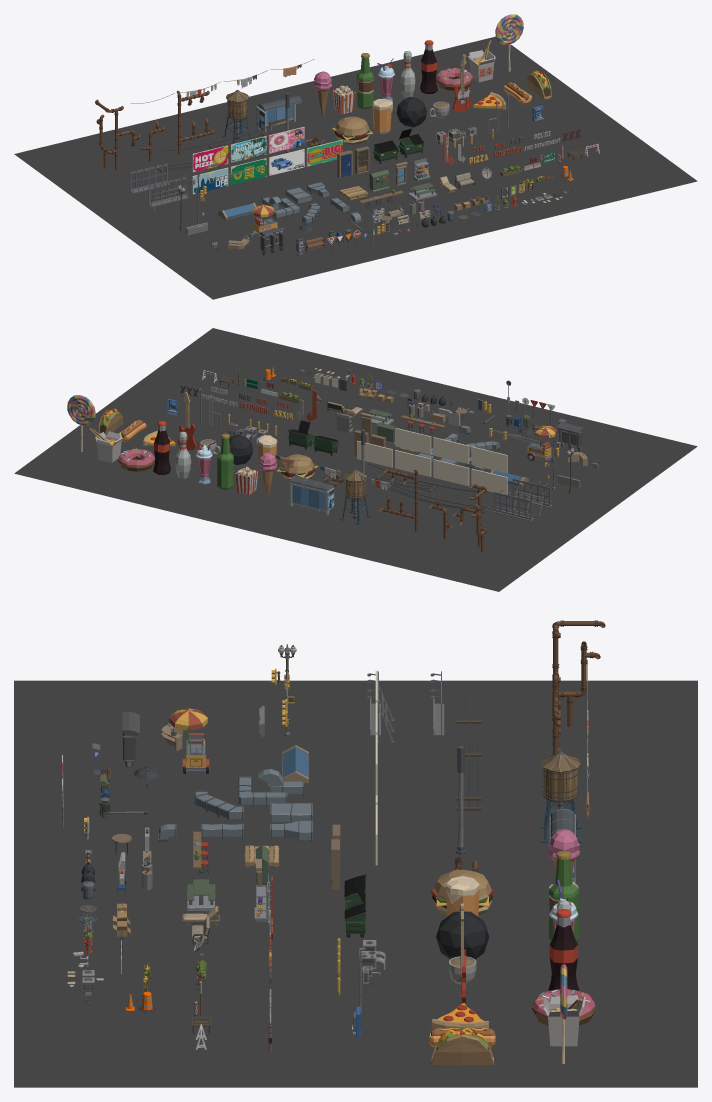
3 renders of one model, top to bottom at view 1: azimuth 30°, elevation 25°; view 2: azimuth 150°, elevation 25°; view 3: azimuth 270°, elevation 25°, orthographic. The views are drawn at different scales.
Visible parts, largest first — view 1: huitugou_2191_893, huitugou_2191_259, huitugou_2191_638, huitugou_2191_219, huitugou_2191_377, huitugou_2191_657, huitugou_2191_408, huitugou_2191_264, huitugou_2191_1061, huitugou_2191_433, huitugou_2191_24, huitugou_2191_286 (+7 smaller); view 2: huitugou_2191_893, huitugou_2191_638, huitugou_2191_464, huitugou_2191_657, huitugou_2191_1061, huitugou_2191_408, huitugou_2191_377, huitugou_2191_264, huitugou_2191_433, huitugou_2191_428, huitugou_2191_286, huitugou_2191_752 (+9 smaller); view 3: huitugou_2191_893, huitugou_2191_219, huitugou_2191_902, huitugou_2191_433, huitugou_2191_286, huitugou_2191_638, huitugou_2191_249, huitugou_2191_259, huitugou_2191_333, huitugou_2191_428, huitugou_2191_803, huitugou_2191_783 (+4 smaller).
Boxes of the visible parts, box(x1,y1,x2,y2) form: huitugou_2191_893: box(14, 36, 697, 299); huitugou_2191_259: box(334, 116, 369, 144); huitugou_2191_638: box(357, 57, 373, 108); huitugou_2191_219: box(396, 97, 426, 127); huitugou_2191_377: box(268, 149, 304, 175); huitugou_2191_657: box(268, 127, 304, 153); huitugou_2191_408: box(230, 136, 266, 162); huitugou_2191_264: box(495, 14, 523, 45); huitugou_2191_1061: box(192, 145, 228, 172); huitugou_2191_433: box(420, 45, 437, 93); huitugou_2191_24: box(306, 139, 342, 166); huitugou_2191_286: box(468, 50, 495, 82); huitugou_2191_893: box(14, 328, 697, 591); huitugou_2191_638: box(217, 438, 233, 489); huitugou_2191_464: box(433, 459, 469, 486); huitugou_2191_657: box(395, 428, 431, 454); huitugou_2191_1061: box(471, 446, 507, 473); huitugou_2191_408: box(433, 437, 469, 463); huitugou_2191_377: box(395, 450, 431, 476); huitugou_2191_264: box(67, 395, 95, 425); huitugou_2191_433: box(153, 425, 170, 474); huitugou_2191_428: box(118, 449, 154, 471); huitugou_2191_286: box(95, 431, 122, 462); huitugou_2191_752: box(471, 468, 507, 494); huitugou_2191_893: box(14, 680, 697, 1087); huitugou_2191_219: box(436, 911, 489, 959); huitugou_2191_902: box(431, 1028, 493, 1065); huitugou_2191_433: box(548, 917, 579, 990); huitugou_2191_286: box(543, 995, 585, 1046); huitugou_2191_638: box(548, 858, 578, 941); huitugou_2191_249: box(445, 876, 479, 916); huitugou_2191_259: box(432, 869, 493, 915); huitugou_2191_333: box(543, 769, 577, 800); huitugou_2191_428: box(532, 989, 595, 1025); huitugou_2191_803: box(547, 829, 579, 876); huitugou_2191_783: box(239, 777, 287, 804).
Bounding box in the file's own units: 5721 × 735 × 4063.
